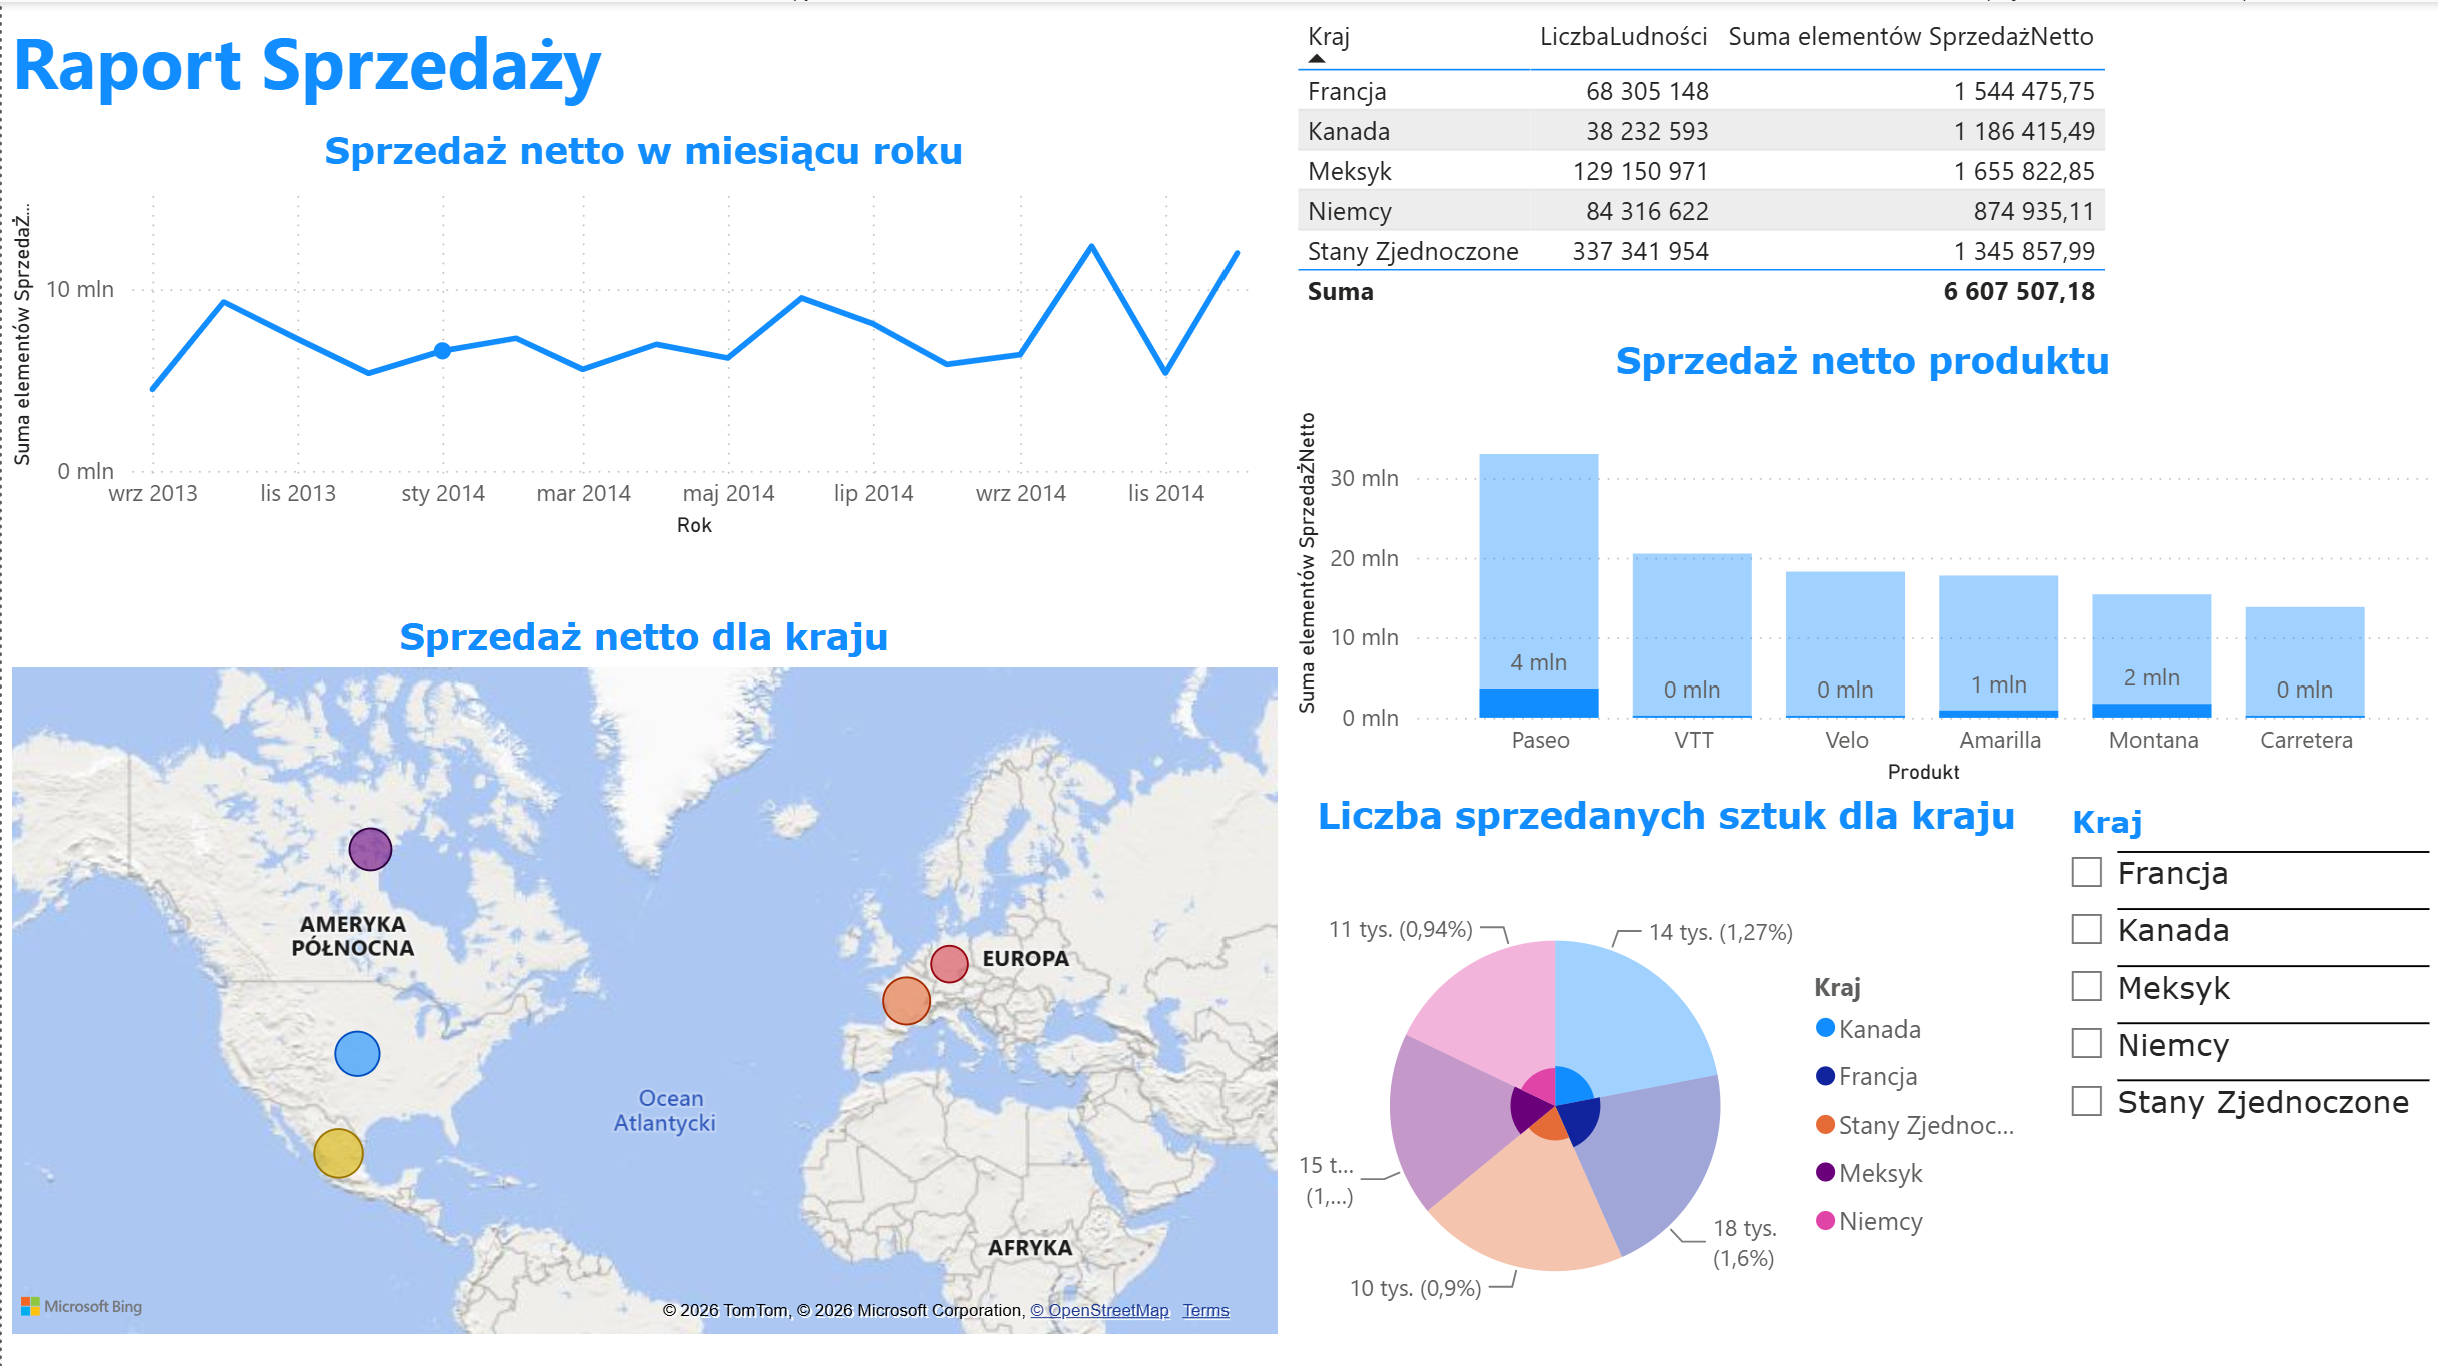

What the dashboard file says about the page in this screenshot:
{"tool":"powerbi","page":{"name":"Strona 1","canvas":[1280,720],"ordinal":0},"visuals":[{"type":"textbox","box":[0,0,374.6,65.9],"z":0},{"type":"lineChart","title":"Sprzedaż netto w miesiącu roku","fields":{"Y":["Sum(sprzedaż.SprzedażNetto)"],"Category":["sprzedaż.Data.Odmiana.Hierarchia dat.Rok","sprzedaż.Data.Odmiana.Hierarchia dat.Kwartał","sprzedaż.Data.Odmiana.Hierarchia dat.Miesiąc","sprzedaż.Data.Odmiana.Hierarchia dat.Dzień"]},"box":[0,66.2,674.8,219.2],"z":1000},{"type":"map","title":"Sprzedaż netto dla kraju","fields":{"Category":["sprzedaż.Kraj"],"Size":["Sum(sprzedaż.SprzedażNetto)"]},"box":[0,321.7,674.8,383.2],"z":2000},{"type":"tableEx","fields":{"Values":["sprzedaż.Kraj","sprzedaż.LiczbaLudności","Sum(sprzedaż.SprzedażNetto)"]},"box":[674.8,1.6,529.8,175],"z":3000},{"type":"columnChart","title":"Sprzedaż netto produktu","fields":{"Category":["sprzedaż.Produkt"],"Y":["Sum(sprzedaż.SprzedażNetto)"]},"box":[674.8,176.6,605.5,238.1],"z":4000},{"type":"pieChart","title":"Liczba sprzedanych sztuk dla kraju","fields":{"Category":["sprzedaż.Kraj"],"Y":["Sum(sprzedaż.Sprzedane_sztuki)"]},"box":[674.8,414.7,398.9,305.9],"z":5000},{"type":"slicer","fields":{"Values":["sprzedaż.Kraj"]},"box":[1074,415,206,305],"z":6000}]}

Visuals, with their boxes in screenshot pixels (x1, y1, x2, y2), scaled from the page's 1280x720 canvas onto the 2438x1366 screenshot:
textbox: left=0, top=0, right=713, bottom=125
"Sprzedaż netto w miesiącu roku" lineChart: left=0, top=126, right=1285, bottom=541
"Sprzedaż netto dla kraju" map: left=0, top=610, right=1285, bottom=1337
tableEx - sprzedaż.Kraj x sprzedaż.LiczbaLudności: left=1285, top=3, right=2294, bottom=335
"Sprzedaż netto produktu" columnChart: left=1285, top=335, right=2437, bottom=787
"Liczba sprzedanych sztuk dla kraju" pieChart: left=1285, top=787, right=2045, bottom=1365
slicer - sprzedaż.Kraj: left=2046, top=787, right=2437, bottom=1365
